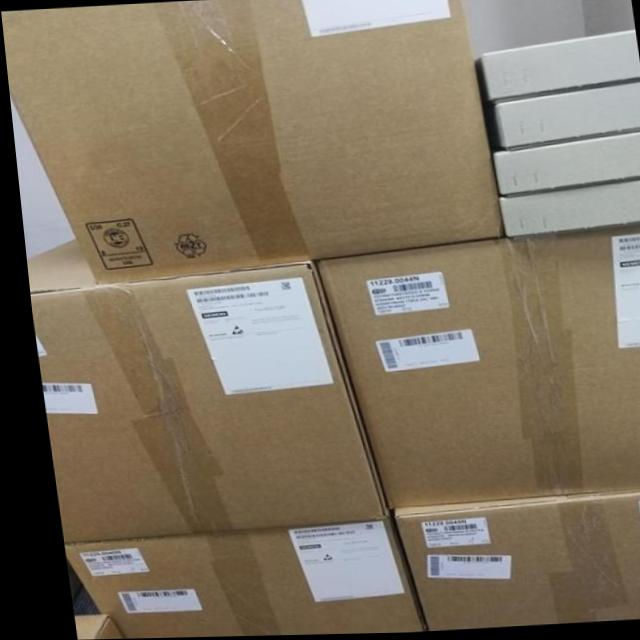box: (1, 0, 498, 284), (21, 238, 377, 543), (304, 222, 640, 511), (52, 520, 413, 639), (383, 491, 640, 631), (60, 614, 111, 640)
